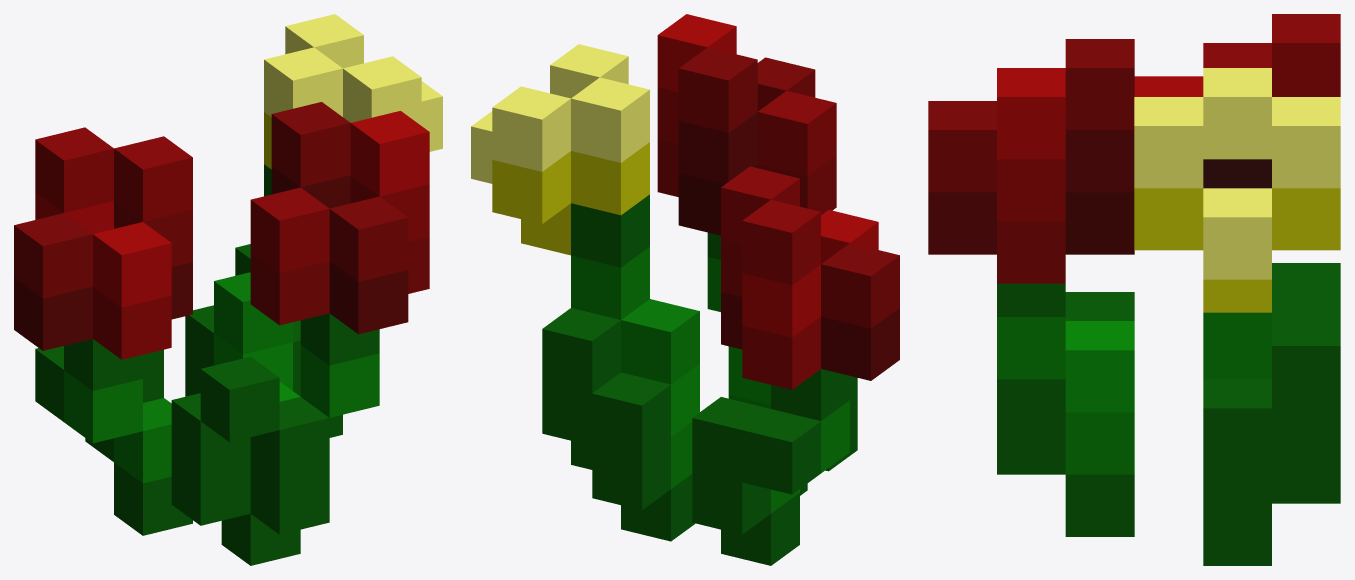
The model's file is flower-1.glb.
3 renders of one model, left to right at view 1: azimuth 30°, elevation 25°; view 2: azimuth 150°, elevation 25°; view 3: azimuth 270°, elevation 25°, orthographic. The views are drawn at different scales.
Parts seen in each view (by area): view 1: Node1; view 2: Node1; view 3: Node1.
Part boxes in pixels (<box>): Node1: <box>14,14,442,565</box>; Node1: <box>471,14,899,565</box>; Node1: <box>928,14,1340,565</box>.
Size of the model in its own units: 0.8 by 0.8 by 0.6.
